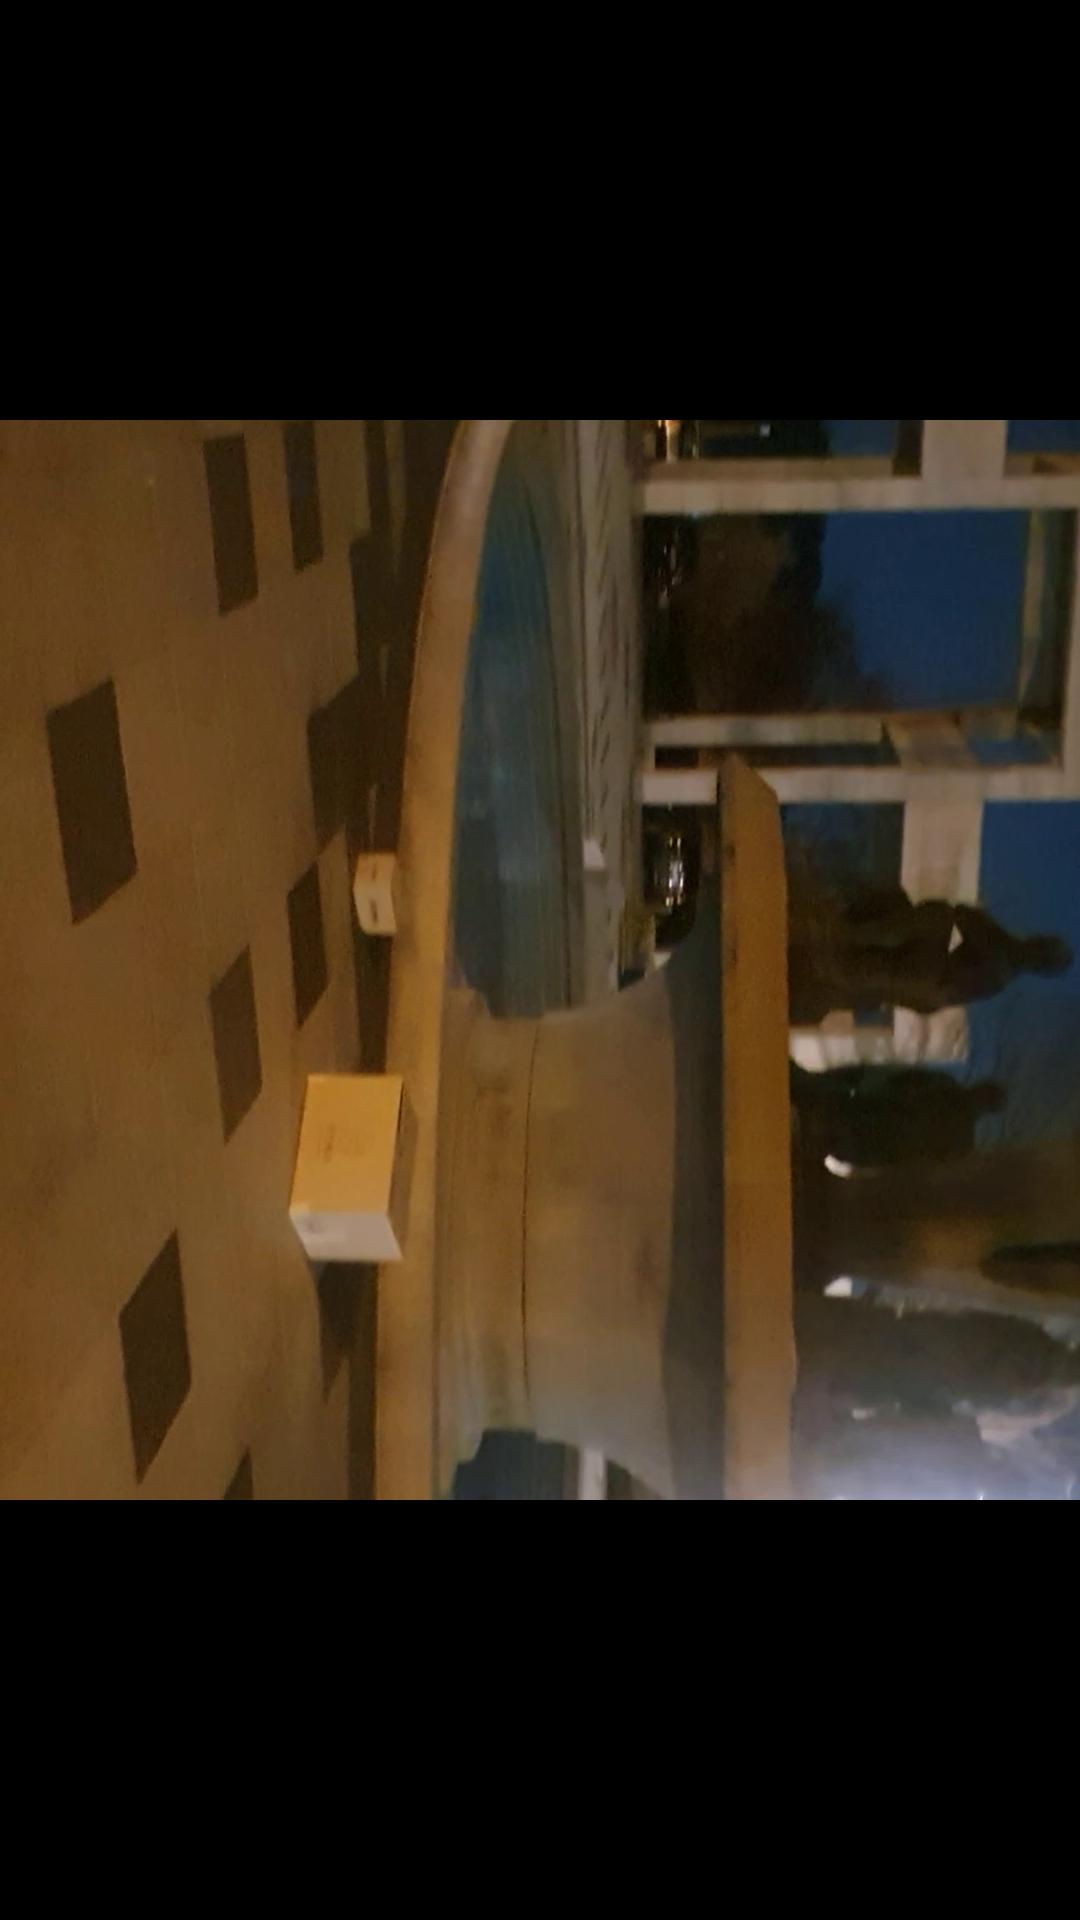Box: (276, 1071, 433, 1267), (349, 841, 411, 938)
